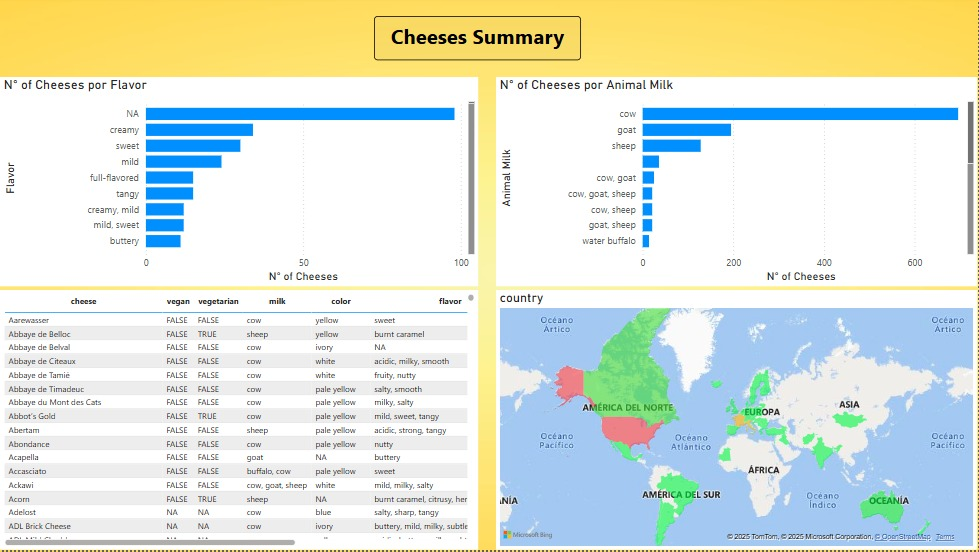

This screenshot's page, from the dashboard's own definition file:
{"tool":"powerbi","page":{"name":"Cheeses","canvas":[1280,720],"ordinal":2},"visuals":[{"type":"tableEx","fields":{"Values":["cheeses.cheese","cheese_details.vegan","cheese_details.vegetarian","cheese_details.milk","cheese_details.color","cheese_details.flavor","cheese_details.country"]},"box":[0,379.9,626.2,340],"z":0},{"type":"barChart","fields":{"Category":["cheese_details.flavor"],"Y":["cheese_details.cheeseCount"]},"box":[0,100.5,626.2,273.9],"z":1000},{"type":"barChart","fields":{"Y":["cheese_details.cheeseCount"],"Category":["cheese_details.milk"]},"box":[649.6,100.5,630.4,273.9],"z":2000},{"type":"filledMap","fields":{"Category":["cheese_details.country"]},"box":[649.6,379.9,630.4,340],"z":3000},{"type":"textbox","box":[490,20.6,271.1,57.8],"z":3001}]}

Visuals, with their boxes in screenshot pixels (x1, y1, x2, y2), scaled from the page's 1280x720 canvas onto the 979x552 screenshot:
tableEx - cheeses.cheese x cheese_details.vegan: x1=0, y1=291, x2=479, y2=551
barChart - cheese_details.flavor x cheese_details.cheeseCount: x1=0, y1=77, x2=479, y2=287
barChart - cheese_details.cheeseCount x cheese_details.milk: x1=497, y1=77, x2=978, y2=287
filledMap - cheese_details.country: x1=497, y1=291, x2=978, y2=551
textbox: x1=375, y1=16, x2=582, y2=60
